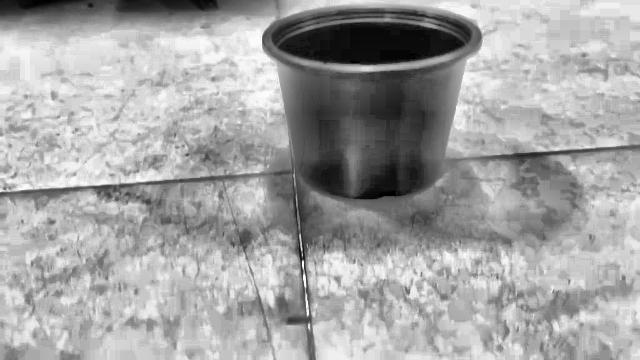pot: (262, 5, 482, 199)
